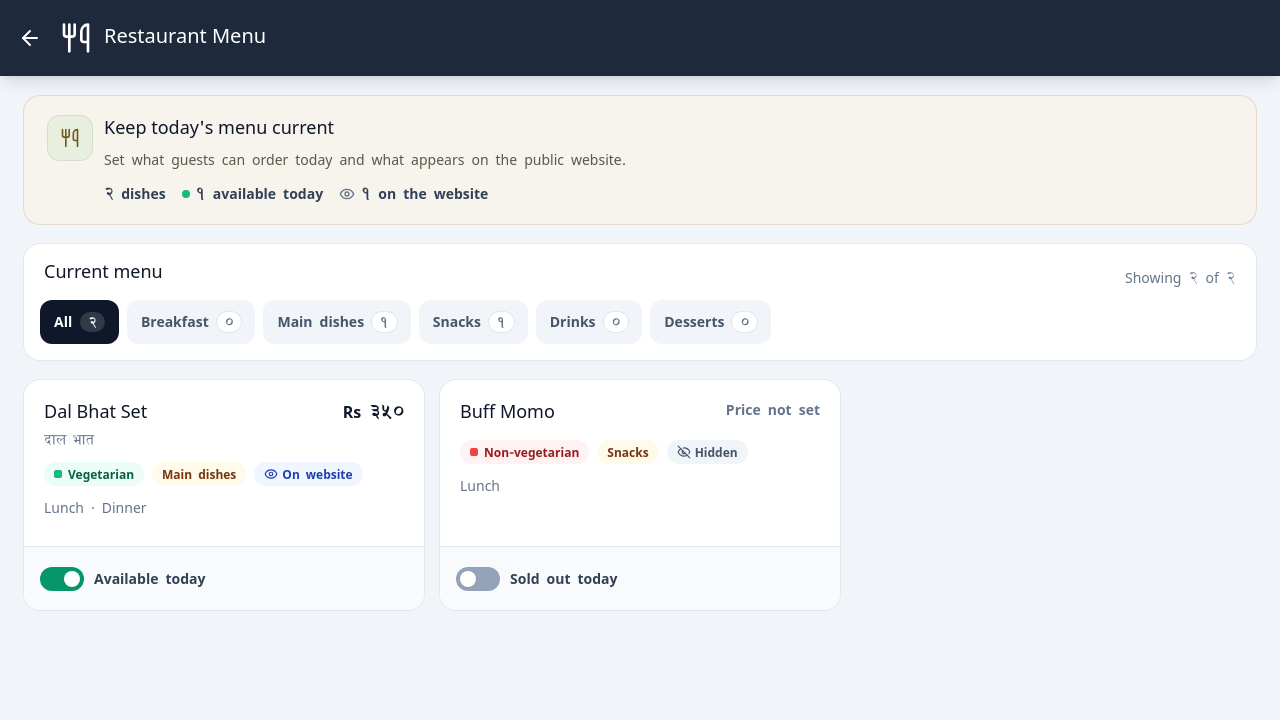
Test: RestaurantMenuPage › shows the server message when switching availability fails
This screenshot has width=1280, height=720.
Click the checkbox named "Dal Bhat Set available today". click: [123, 578]
box: [40, 566, 206, 590]
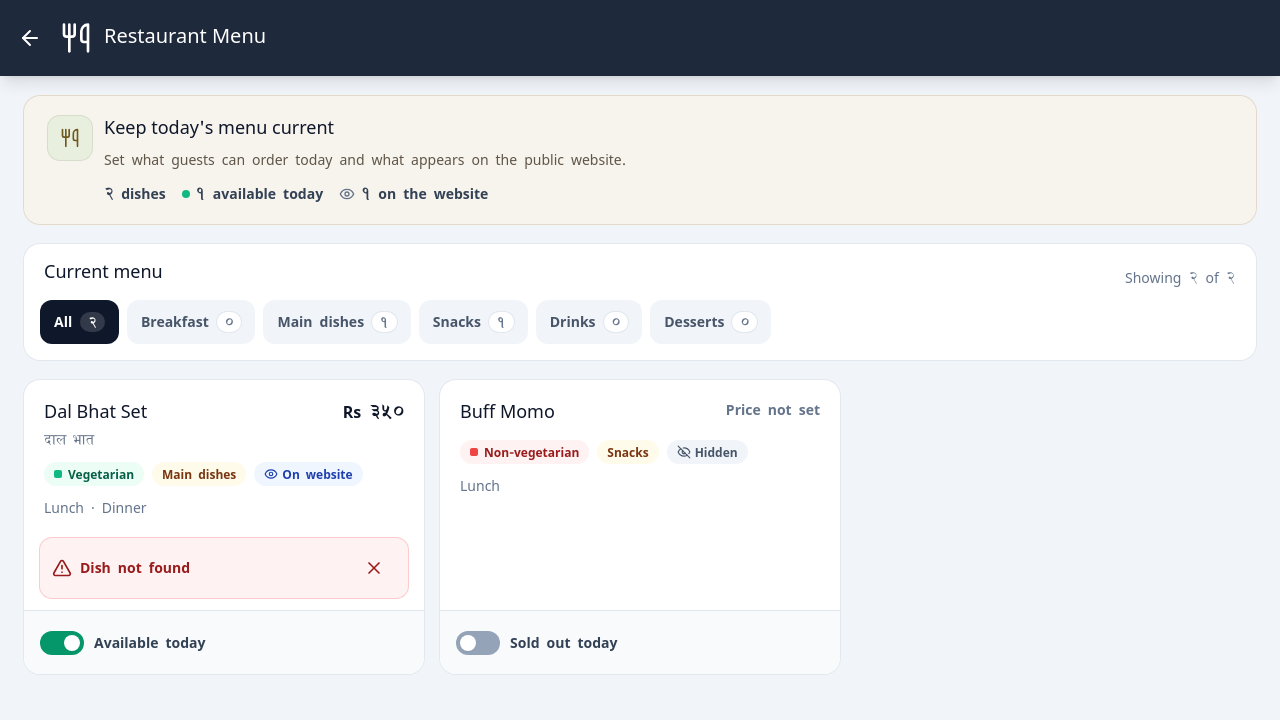
Expected: the message reads "Dish not found", [80, 556, 190, 579]
